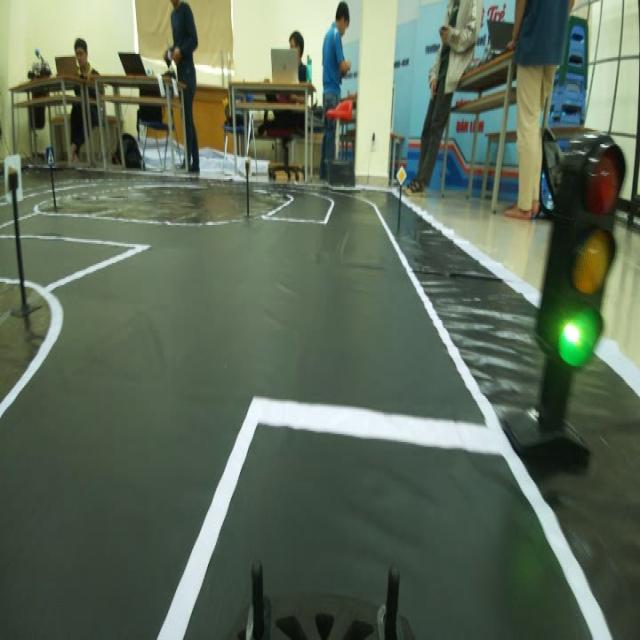trafficlight: (533, 122, 628, 391)
